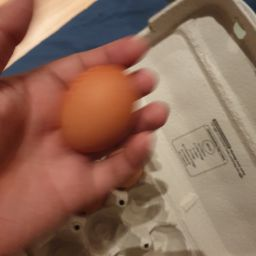Eggs: (49, 62, 138, 149)
